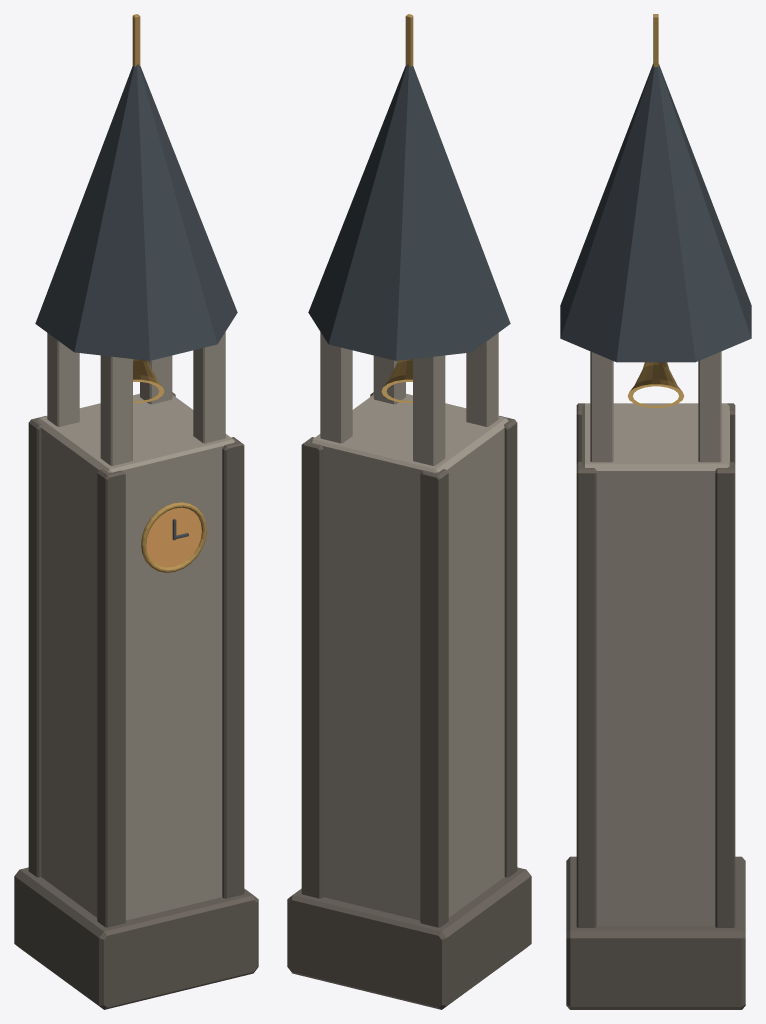
Rendered from bell-tower.glb.
3 renders of one model, left to right at view 1: azimuth 30°, elevation 25°; view 2: azimuth 150°, elevation 25°; view 3: azimuth 270°, elevation 25°, orthographic.
Visible parts, largest first — view 1: mat_stone, mat_stoneDark, mat_roofSlate, mat_glass, mat_brass; view 2: mat_stone, mat_stoneDark, mat_roofSlate, mat_brass; view 3: mat_stone, mat_stoneDark, mat_roofSlate, mat_brass.
Part boxes in pixels (bbox=[...]): mat_stone: bbox=[37, 332, 235, 920]; mat_stoneDark: bbox=[14, 392, 258, 1009]; mat_roofSlate: bbox=[35, 64, 237, 360]; mat_glass: bbox=[146, 507, 201, 567]; mat_brass: bbox=[132, 14, 206, 572]; mat_stone: bbox=[310, 332, 508, 920]; mat_stoneDark: bbox=[287, 392, 531, 1009]; mat_roofSlate: bbox=[308, 64, 510, 360]; mat_brass: bbox=[381, 14, 413, 402]; mat_stone: bbox=[582, 351, 729, 926]; mat_stoneDark: bbox=[566, 403, 745, 1009]; mat_roofSlate: bbox=[560, 64, 751, 362]; mat_brass: bbox=[627, 14, 684, 407].
Size of the model in its own units: 6.19 by 34.24 by 6.19.
